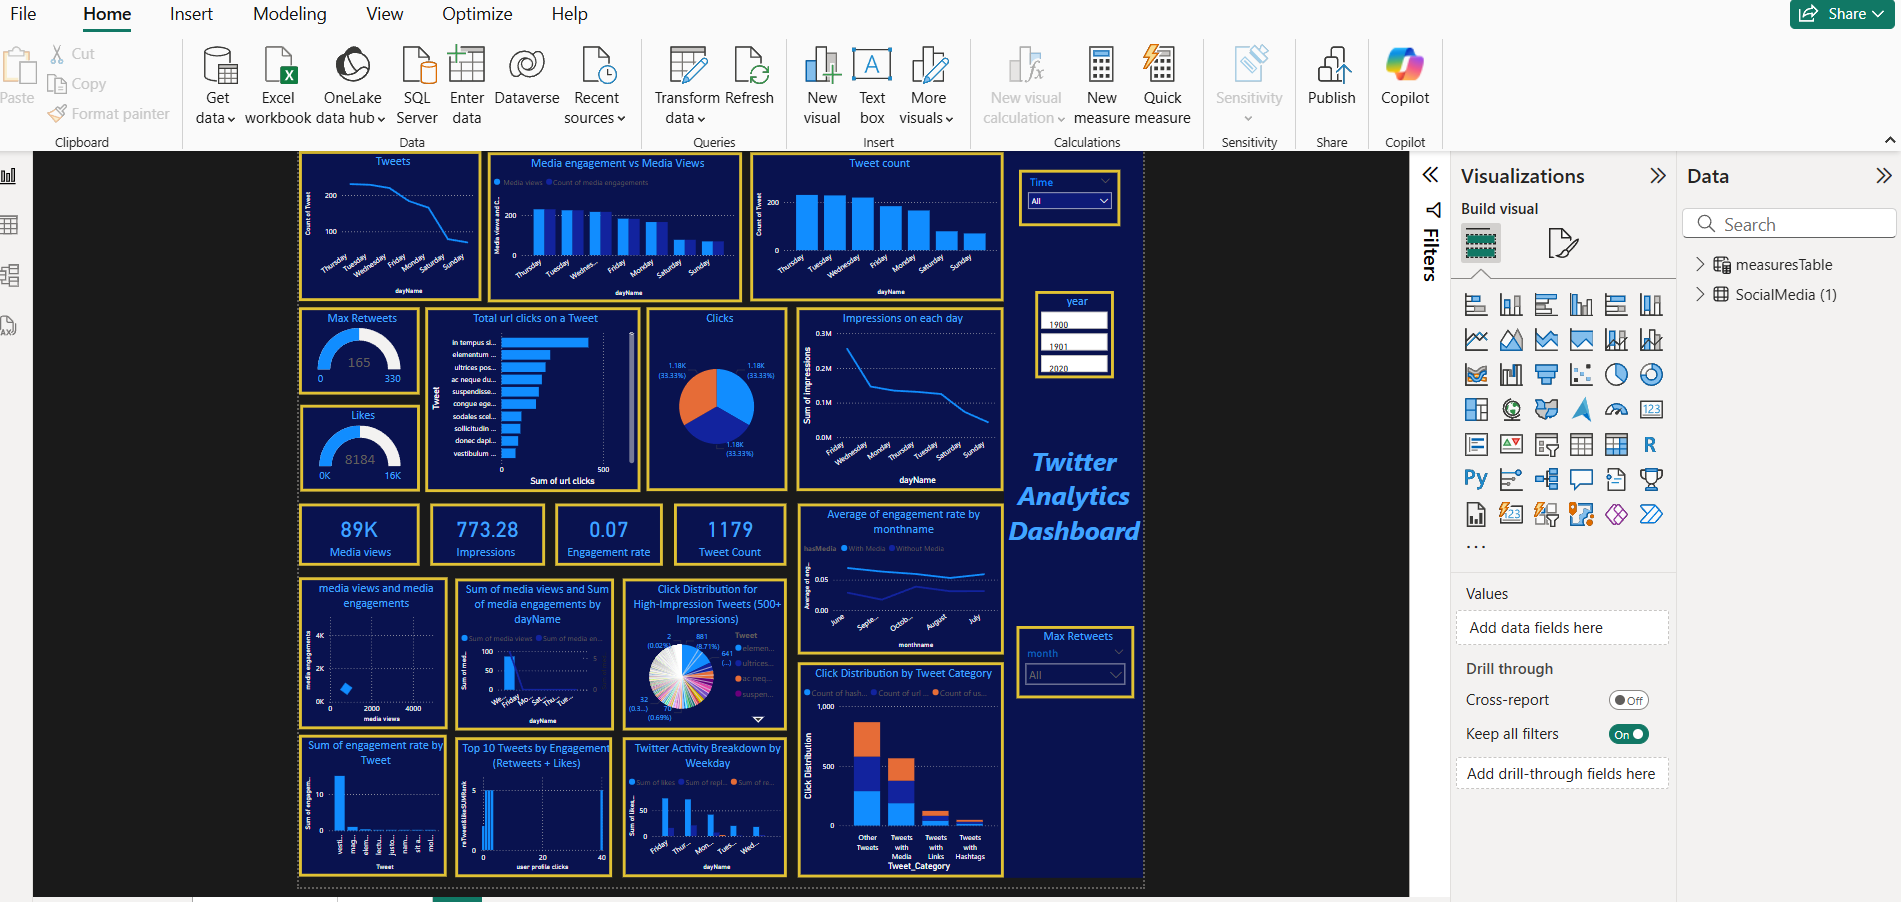

Layout of this report page (visuals, bound fields, positions):
{"tool":"powerbi","page":{"name":"NullClass task","canvas":[1400,1220],"ordinal":0},"visuals":[{"type":"textbox","box":[1168.3,0,231.7,1205],"z":0},{"type":"card","fields":{"Values":["SocialMedia (1).media views"]},"box":[0,583.3,200,103.3],"z":1000},{"type":"card","fields":{"Values":["SocialMedia (1).Tweet"]},"box":[621.7,583.3,186.7,103.3],"z":1750},{"type":"card","fields":{"Values":["SocialMedia (1).impressions"]},"box":[218.3,583.3,190,103.3],"z":2000},{"type":"card","fields":{"Values":["SocialMedia (1).engagement rate"]},"box":[425,583.3,178.3,103.3],"z":3000},{"type":"gauge","title":"Likes","fields":{"Y":["SocialMedia (1).likes"]},"box":[1.2,421.2,198.8,143.8],"z":5000},{"type":"gauge","title":"Max Retweets","fields":{"Y":["SocialMedia (1).retweets"]},"box":[0,258.8,200,145],"z":6000},{"type":"slicer","title":"Max Retweets","fields":{"Values":["SocialMedia (1).monthname"]},"box":[1188.3,786.7,195,120],"z":7000},{"type":"lineChart","title":"Tweets","fields":{"Category":["SocialMedia (1).dayName"],"Y":["SocialMedia (1).Tweet"]},"box":[0,0,302.5,248.8],"z":8000},{"type":"lineChart","title":"Impressions ","fields":{"Category":["SocialMedia (1).dayName"],"Y":["SocialMedia (1).impressions"]},"box":[825,260,343.3,305],"z":9000},{"type":"clusteredBarChart","title":"Impressions ","fields":{"Category":["SocialMedia (1).Tweet"],"Y":["SocialMedia (1).url clicks"]},"box":[208.3,258.3,356.7,306.7],"z":10000},{"type":"pieChart","title":"Clicks","fields":{"Y":["SocialMedia (1).url clicks","SocialMedia (1).user profile clicks","SocialMedia (1).hashtag clicks"]},"box":[575,260,233.3,305],"z":11000},{"type":"clusteredColumnChart","title":"Media engagement vs Media Views","fields":{"Category":["SocialMedia (1).dayName"],"Y":["SocialMedia (1).media views","SocialMedia (1).media engagements"]},"box":[312.5,1.2,421.2,248.8],"z":12000},{"type":"clusteredColumnChart","title":"Tweet count","fields":{"Category":["SocialMedia (1).dayName"],"Y":["SocialMedia (1).Tweet"]},"box":[747.5,2.5,420,247.5],"z":13000},{"type":"scatterChart","fields":{"X":["SocialMedia (1).media views"],"Y":["SocialMedia (1).media engagements"]},"box":[0,706.7,246.7,251.7],"z":14000},{"type":"lineStackedColumnComboChart","fields":{"Category":["SocialMedia (1).dayName"],"Y":["SocialMedia (1).media views"],"Y2":["SocialMedia (1).media engagements"]},"box":[260,708.3,263.3,251.7],"z":15000},{"type":"pieChart","fields":{"Y":["measuresTable.TotalClicks","SocialMedia (1).url clicks","SocialMedia (1).user profile clicks","SocialMedia (1).hashtag clicks"],"Category":["SocialMedia (1).clickTypeHierarchy.url clicks","SocialMedia (1).clickTypeHierarchy.hashtag clicks","SocialMedia (1).clickTypeHierarchy.Tweet","SocialMedia (1).clickTypeHierarchy.user profile clicks"]},"box":[536.7,708.3,271.7,251.7],"z":16000},{"type":"advancedSlicerVisual","fields":{"Values":["SocialMedia (1).year"]},"box":[1220,231.7,130,145],"z":17000},{"type":"lineChart","fields":{"Y":["SocialMedia (1).engagement rate"],"Series":["SocialMedia (1).hasMedia"],"Category":["SocialMedia (1).monthname"]},"box":[826.7,583.3,341.7,250],"z":18000},{"type":"columnChart","fields":{"Category":["SocialMedia (1).Tweet"],"Y":["SocialMedia (1).engagement rate"]},"box":[0,968.3,245,235],"z":19000},{"type":"columnChart","fields":{"Category":["SocialMedia (1).user profile clicks"],"Y":["measuresTable.reTweet&likeSUMRank"]},"box":[260,972,260,232],"z":20000},{"type":"clusteredColumnChart","fields":{"Y":["SocialMedia (1).likes","SocialMedia (1).replies","SocialMedia (1).retweets"],"Category":["SocialMedia (1).dayName"]},"box":[536,972,272,232],"z":21000},{"type":"slicer","fields":{"Values":["SocialMedia (1).timeInterval"]},"box":[1193.3,31.7,168.3,93.3],"z":22000},{"type":"columnChart","fields":{"Y":["SocialMedia (1).hashtag clicks","SocialMedia (1).url clicks","SocialMedia (1).user profile clicks"],"Category":["SocialMedia (1).Tweet_Category"]},"box":[826.7,846.7,341.7,356.7],"z":23000},{"type":"card","fields":{"Values":["measuresTable.NoDataMessage1"]},"box":[23.3,1063.3,200,76.7],"z":23500}]}

Visuals, with their boxes on the page's 1400x1220 design canvas (x1, y1, x2, y2). These are canvas units, not pixel positions in the 1901x902 screenshot, which may show the page scaled, cropped or inside an application window:
textbox: Rect(1168, 0, 1400, 1205)
card - SocialMedia (1).media views: Rect(0, 583, 200, 687)
card - SocialMedia (1).Tweet: Rect(622, 583, 808, 687)
card - SocialMedia (1).impressions: Rect(218, 583, 408, 687)
card - SocialMedia (1).engagement rate: Rect(425, 583, 603, 687)
"Likes" gauge: Rect(1, 421, 200, 565)
"Max Retweets" gauge: Rect(0, 259, 200, 404)
"Max Retweets" slicer: Rect(1188, 787, 1383, 907)
"Tweets" lineChart: Rect(0, 0, 302, 249)
"Impressions " lineChart: Rect(825, 260, 1168, 565)
"Impressions " clusteredBarChart: Rect(208, 258, 565, 565)
"Clicks" pieChart: Rect(575, 260, 808, 565)
"Media engagement vs Media Views" clusteredColumnChart: Rect(312, 1, 734, 250)
"Tweet count" clusteredColumnChart: Rect(748, 2, 1168, 250)
scatterChart - SocialMedia (1).media views x SocialMedia (1).media engagements: Rect(0, 707, 247, 958)
lineStackedColumnComboChart - SocialMedia (1).dayName x SocialMedia (1).media views: Rect(260, 708, 523, 960)
pieChart - measuresTable.TotalClicks x SocialMedia (1).url clicks: Rect(537, 708, 808, 960)
advancedSlicerVisual - SocialMedia (1).year: Rect(1220, 232, 1350, 377)
lineChart - SocialMedia (1).engagement rate x SocialMedia (1).hasMedia: Rect(827, 583, 1168, 833)
columnChart - SocialMedia (1).Tweet x SocialMedia (1).engagement rate: Rect(0, 968, 245, 1203)
columnChart - SocialMedia (1).user profile clicks x measuresTable.reTweet&likeSUMRank: Rect(260, 972, 520, 1204)
clusteredColumnChart - SocialMedia (1).likes x SocialMedia (1).replies: Rect(536, 972, 808, 1204)
slicer - SocialMedia (1).timeInterval: Rect(1193, 32, 1362, 125)
columnChart - SocialMedia (1).hashtag clicks x SocialMedia (1).url clicks: Rect(827, 847, 1168, 1203)
card - measuresTable.NoDataMessage1: Rect(23, 1063, 223, 1140)
